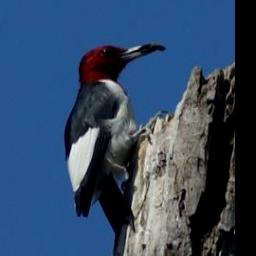Woodpecker: (64, 41, 165, 256)
